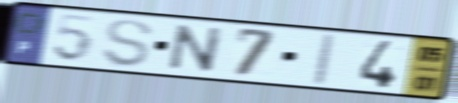4: (356, 38, 399, 90)
5: (50, 11, 99, 64)
7: (232, 26, 281, 79)
I: (307, 31, 340, 88)
N: (164, 22, 228, 74)
S: (99, 17, 157, 70)
